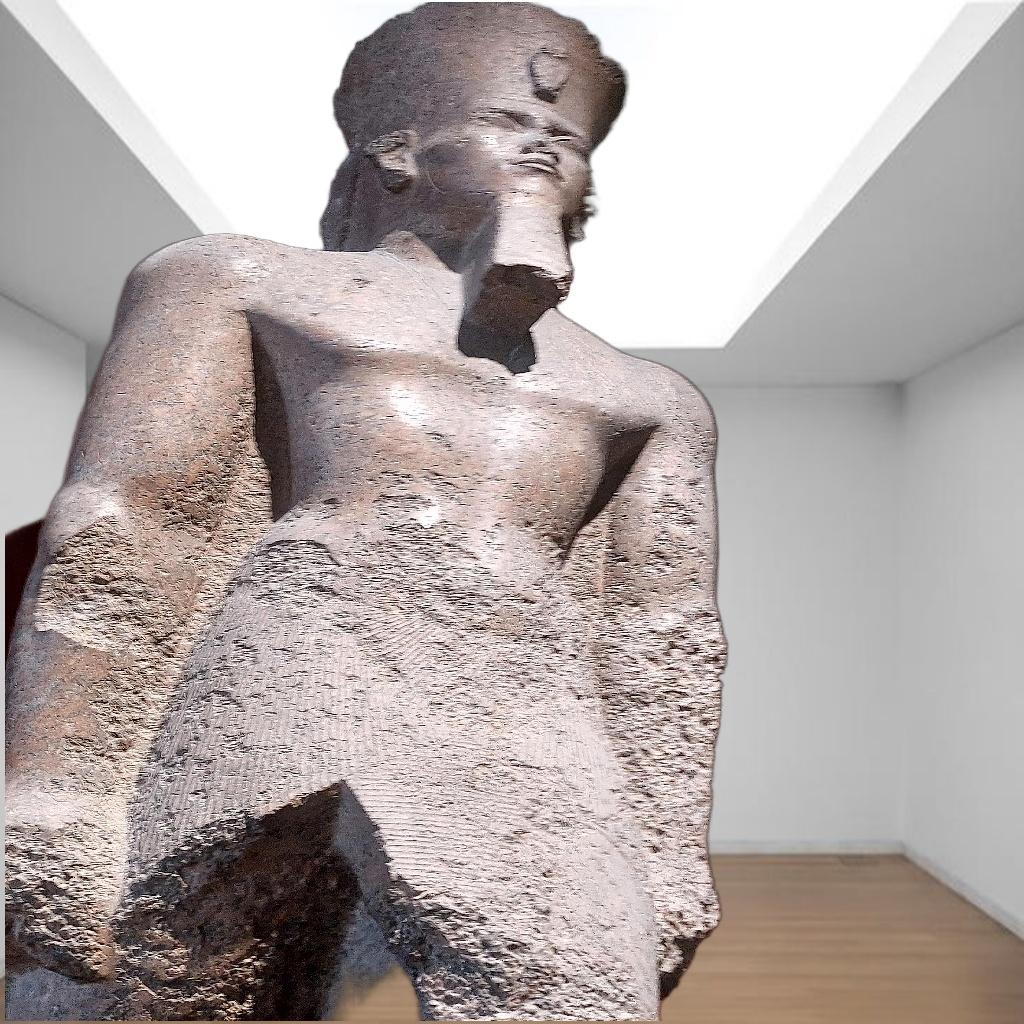Senwosret III: (5, 2, 739, 1020)
